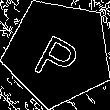P_NE: (30, 22, 86, 83)
